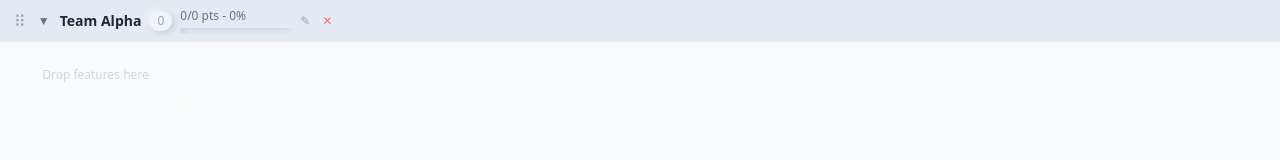
Test: SwimlaneRow › shows inline error when API returns a duplicate name conflict
This screenshot has width=1280, height=160.
Click the button titled "Rename swimlane": [305, 21] box 300,13 -> 310,29
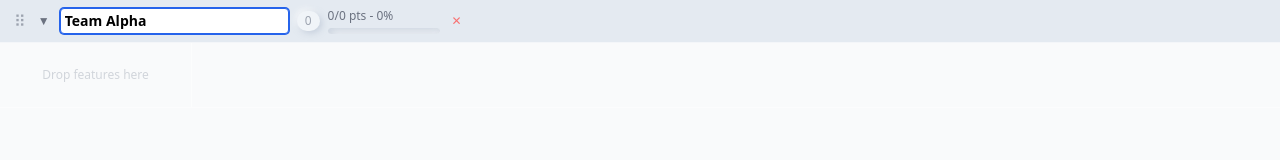
Replace the text in the field with "Team Beta": [174, 21] box 60,8 -> 289,34
Then press Enter
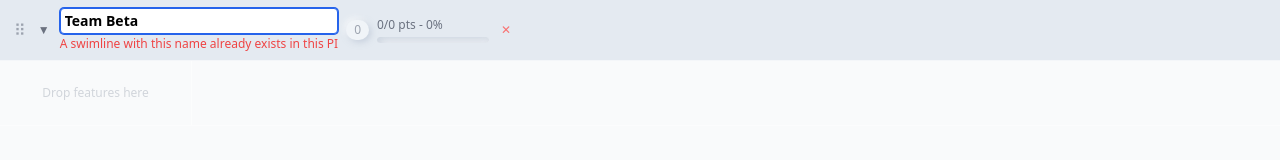
expect the text "A swimline with this name already exists in this PI" is shown: met, box 60,36 -> 338,52
